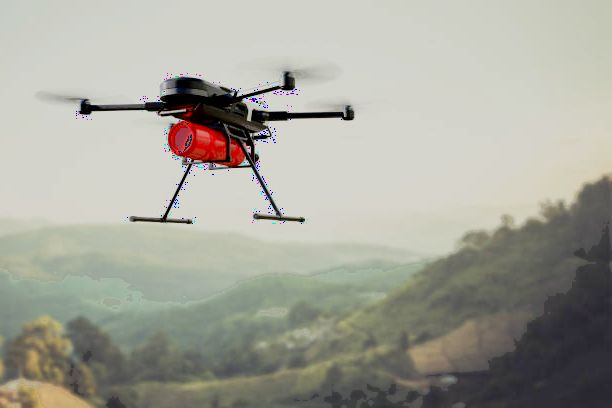Drone: (24, 52, 365, 129)
